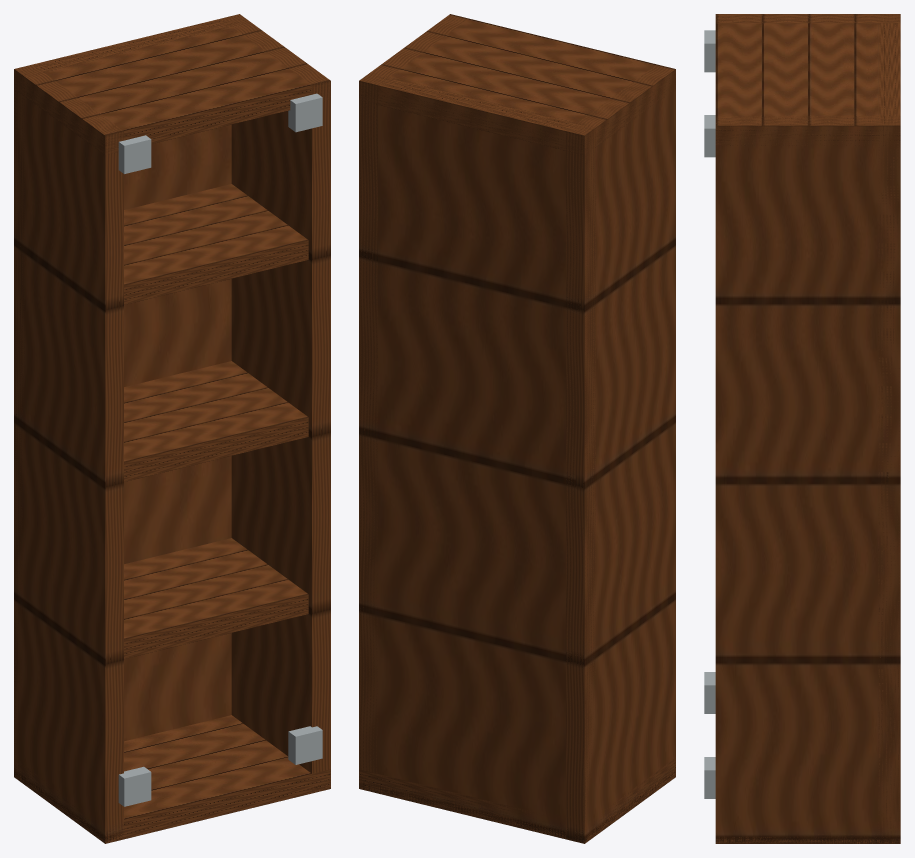
The model's file is suburban-outbreak-interiors-bathroom-towel-cubby-a033c4cb__19931.glb.
3 views of the same model, side by side, from view 1: azimuth 30°, elevation 25°; view 2: azimuth 150°, elevation 25°; view 3: azimuth 270°, elevation 25° (orthographic).
Visible parts, largest first — view 1: bathroom-towel-cubby; view 2: bathroom-towel-cubby; view 3: bathroom-towel-cubby.
Boxes of the visible parts, x1,y1,x2,y2 form: bathroom-towel-cubby: (14,14,330,843); bathroom-towel-cubby: (359,14,675,843); bathroom-towel-cubby: (704,14,900,843).
Bounding box in the file's own units: 0.4999 × 1.5 × 0.371.
Materials: 2 (1 with a texture image).
